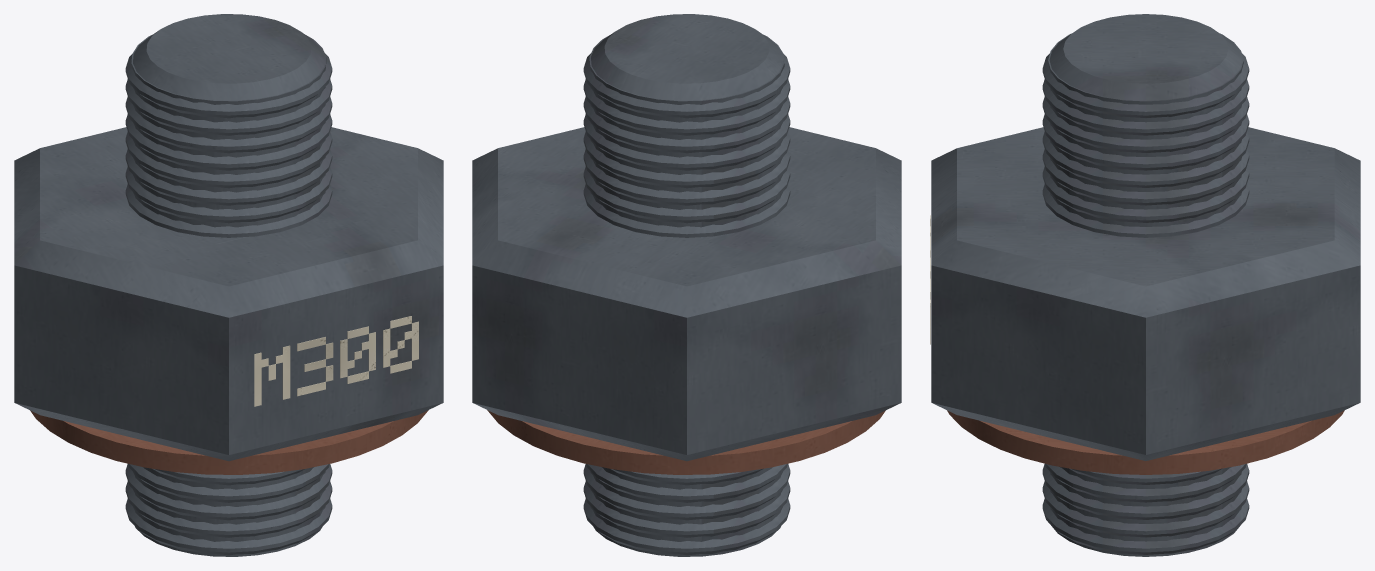
Rendered from nut.glb.
3 renders of one model, left to right at view 1: azimuth 30°, elevation 25°; view 2: azimuth 150°, elevation 25°; view 3: azimuth 270°, elevation 25°, orthographic.
Parts seen in each view (by area): view 1: NutBody; view 2: NutBody; view 3: NutBody.
Boxes of the visible parts, bbox=[...] form: NutBody: bbox=[14, 14, 443, 556]; NutBody: bbox=[472, 14, 901, 556]; NutBody: bbox=[930, 14, 1360, 556].
Size of the model in its own units: 0.72 by 0.748 by 0.6247.
3 materials, 3 textured.
